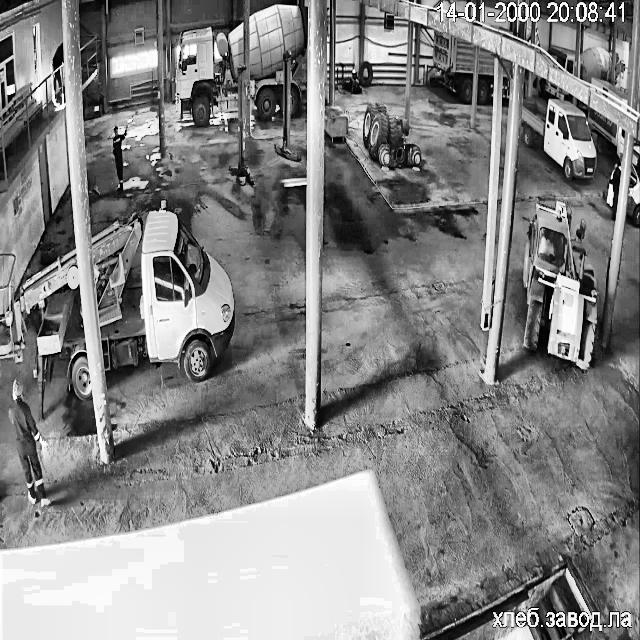class4: (8, 380, 50, 505), (112, 125, 127, 189), (607, 163, 620, 219)
class6: (524, 203, 596, 370), (362, 103, 420, 165), (576, 222, 584, 238)
class7: (92, 201, 233, 380), (176, 4, 306, 124), (0, 251, 91, 412), (522, 100, 596, 180), (433, 30, 473, 102), (588, 108, 624, 156), (580, 46, 611, 83), (477, 48, 494, 102), (592, 78, 628, 102), (627, 165, 640, 226), (548, 45, 574, 74), (538, 77, 567, 99), (500, 60, 510, 97), (632, 143, 640, 164), (0, 254, 14, 262), (616, 53, 620, 76)
truck: (229, 66, 252, 185), (275, 52, 300, 161)
